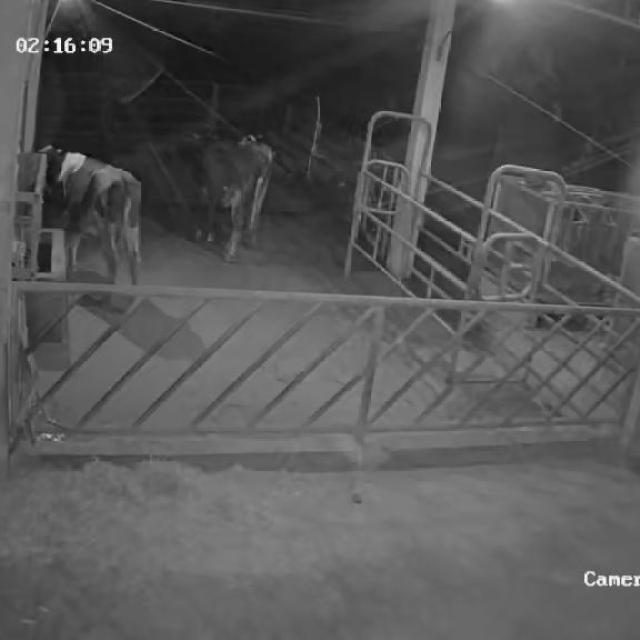standing: (32, 140, 142, 319), (181, 120, 275, 260)
